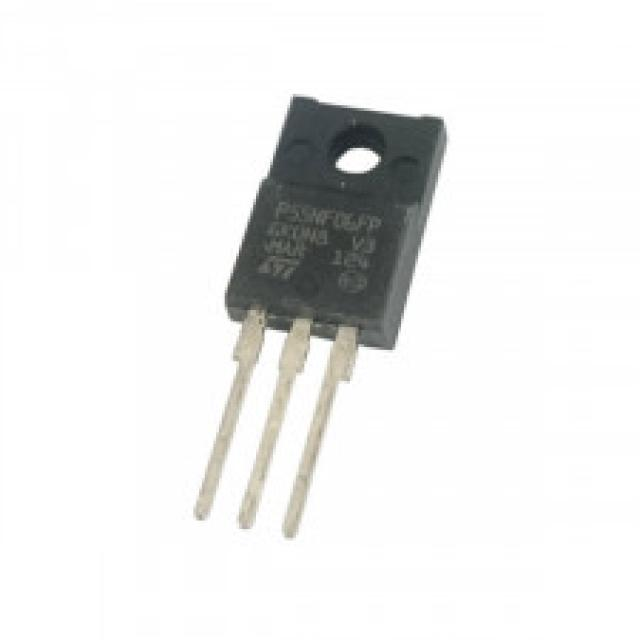Transistor: (194, 94, 444, 543)
